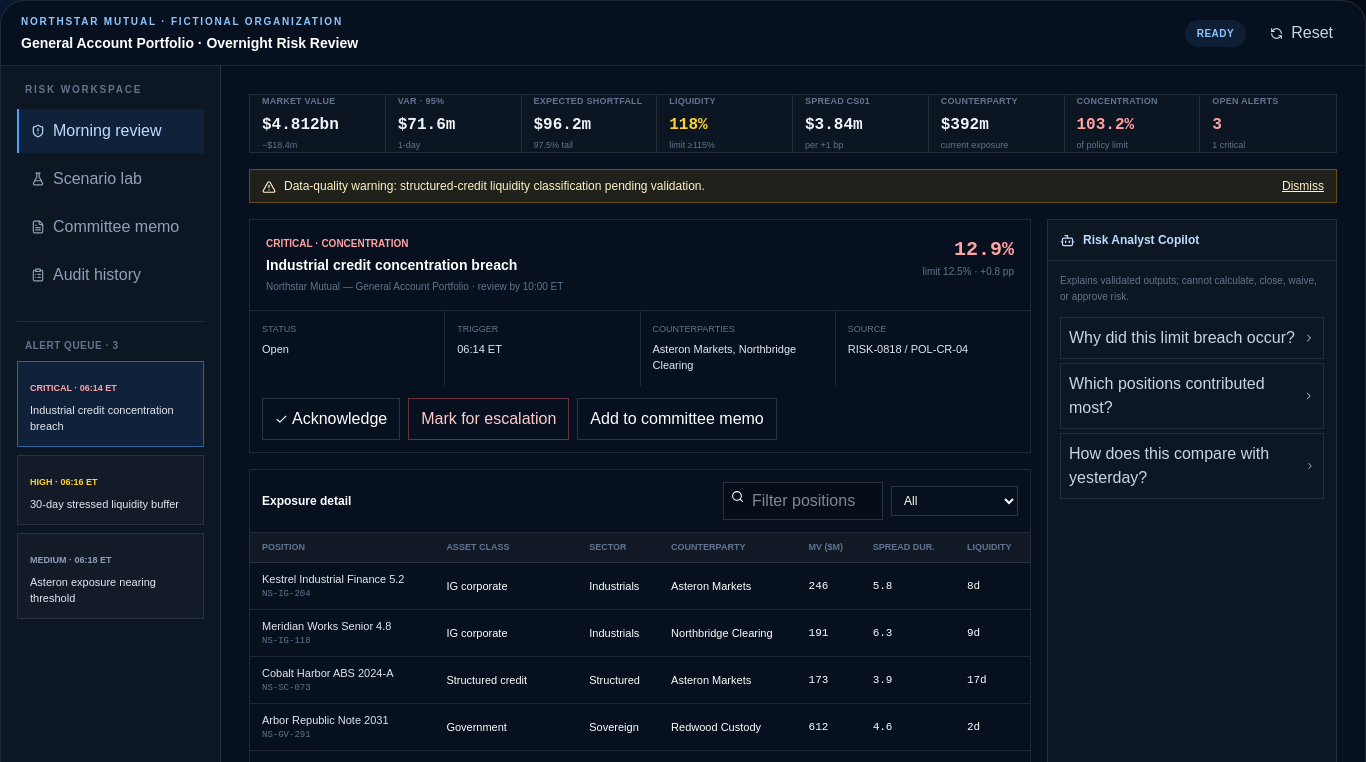
Test: Risk Analyst Copilot simulation › runs a configured scenario and shows contributors
Click the button "Scenario lab" at (110, 179), box [17,157,204,201]
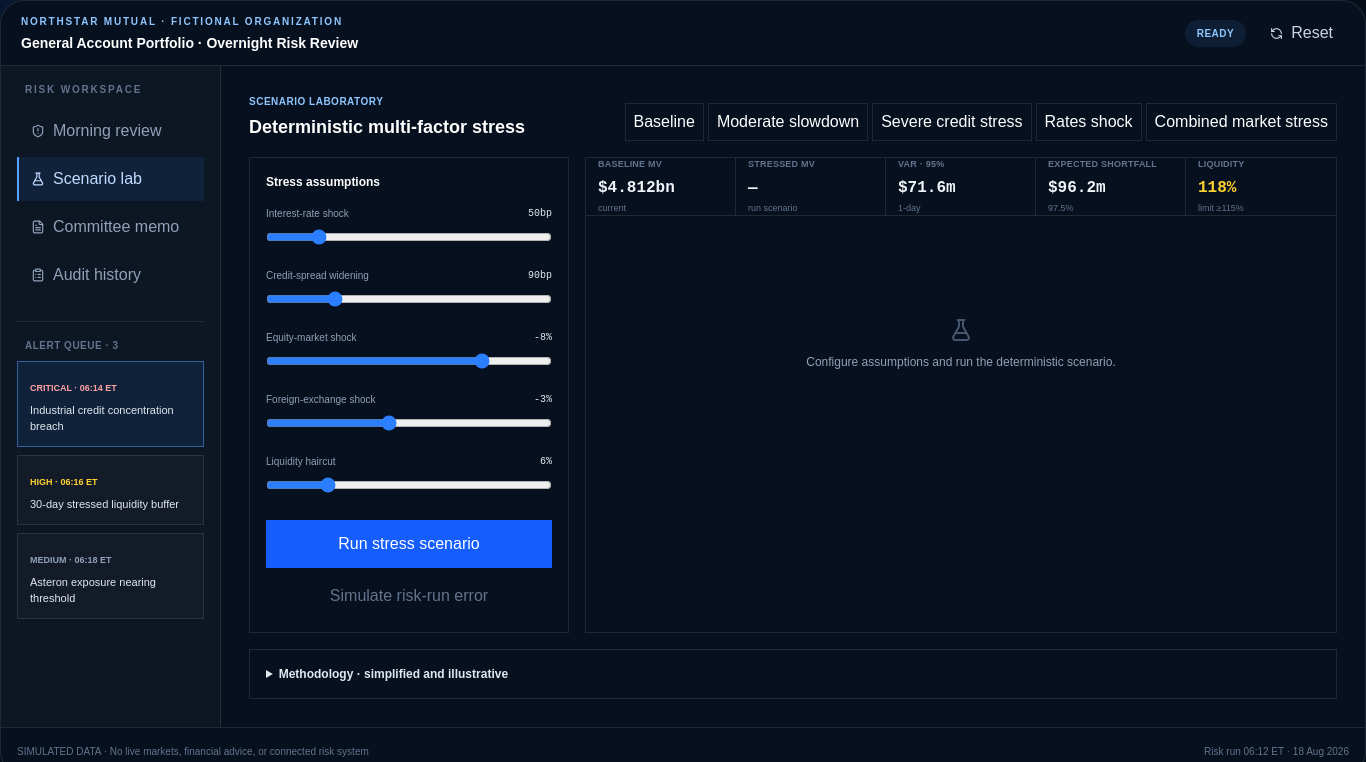
Set the slider named "Credit-spread widening" to "300" at (476, 299), box [266,291,552,307]
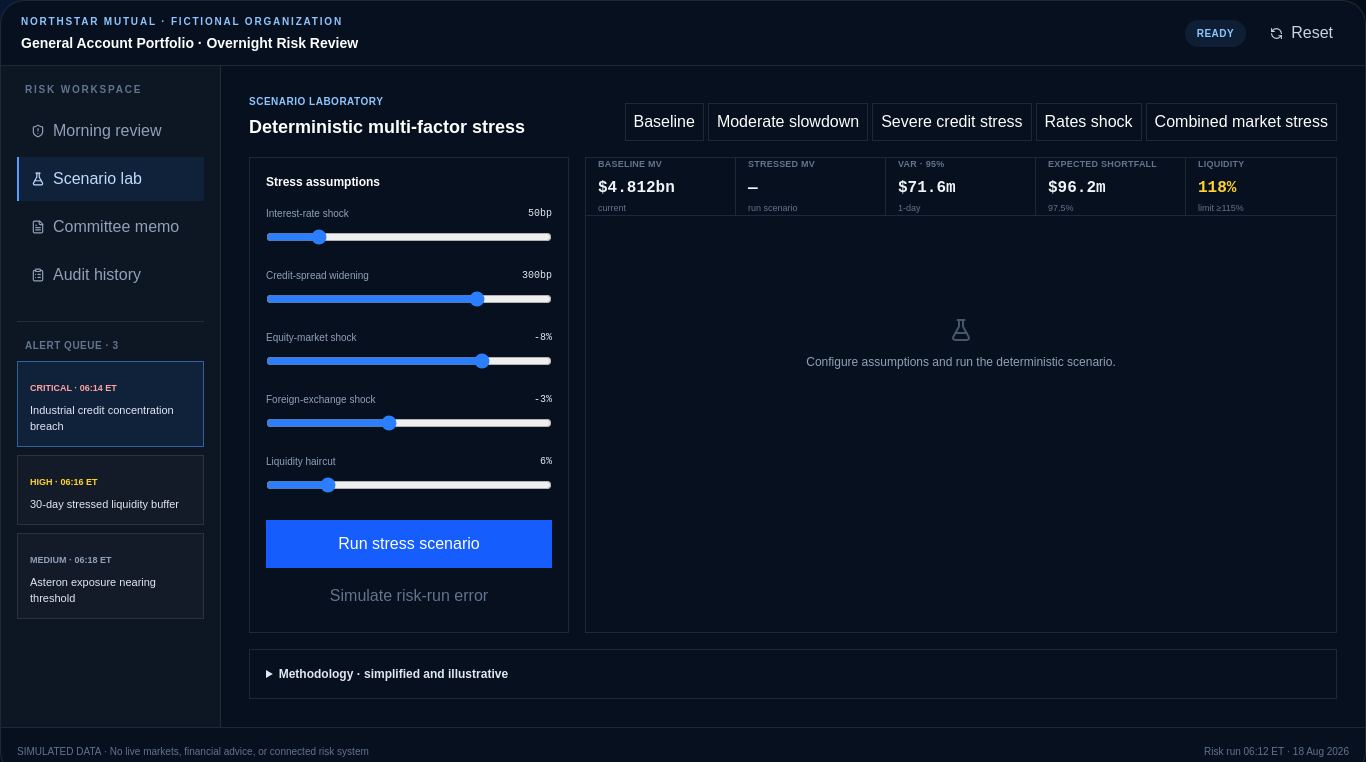
Click the button "Run stress scenario" at (409, 544), box [266,520,552,568]
Wait 400 ms
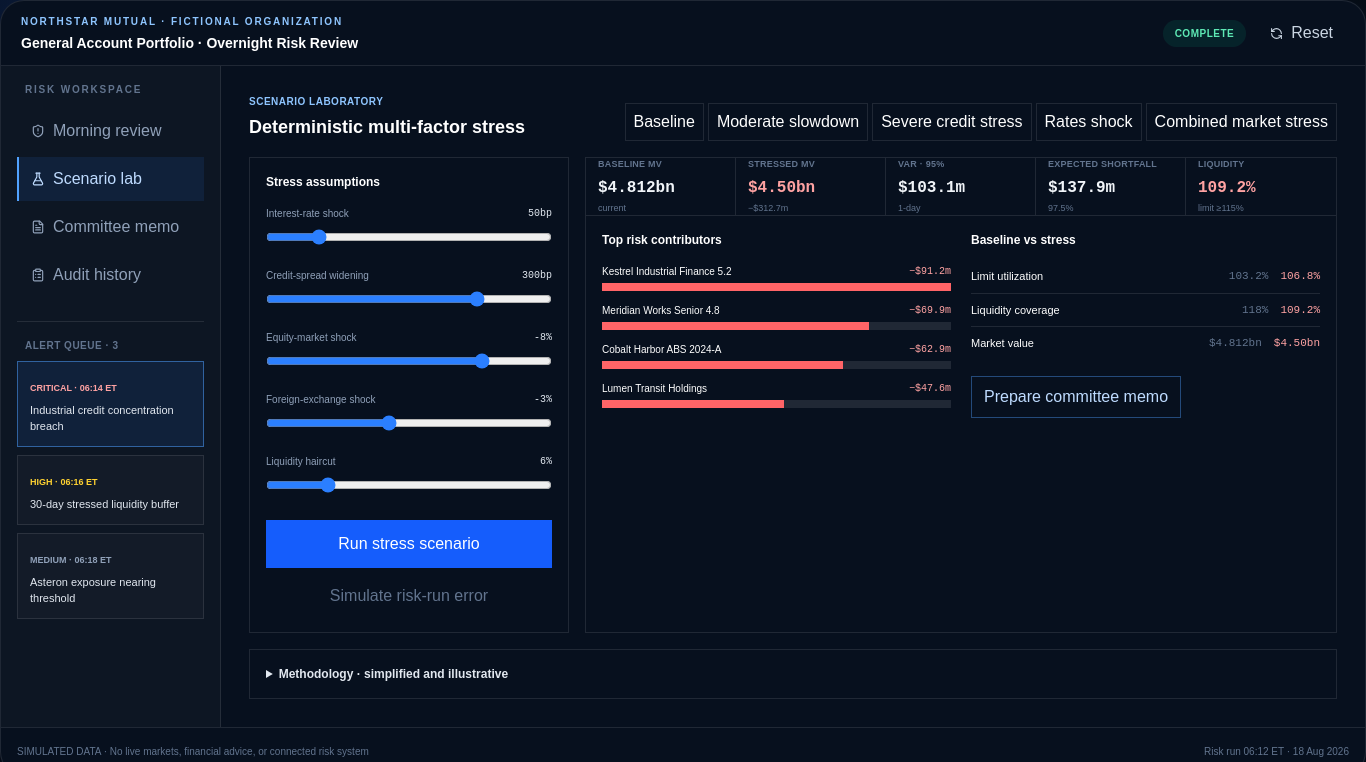
Expected: the heading "Top risk contributors" is shown, [602,233,722,247]
Expected: the heading "Baseline vs stress" is shown, [971,233,1076,247]
